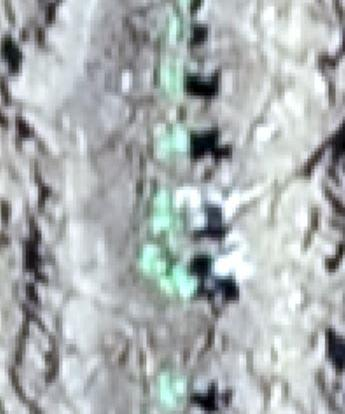cotton: (156, 374, 187, 405), (163, 268, 195, 295), (159, 128, 189, 153), (143, 248, 169, 274), (151, 210, 181, 231), (163, 67, 187, 92), (153, 192, 172, 205)
